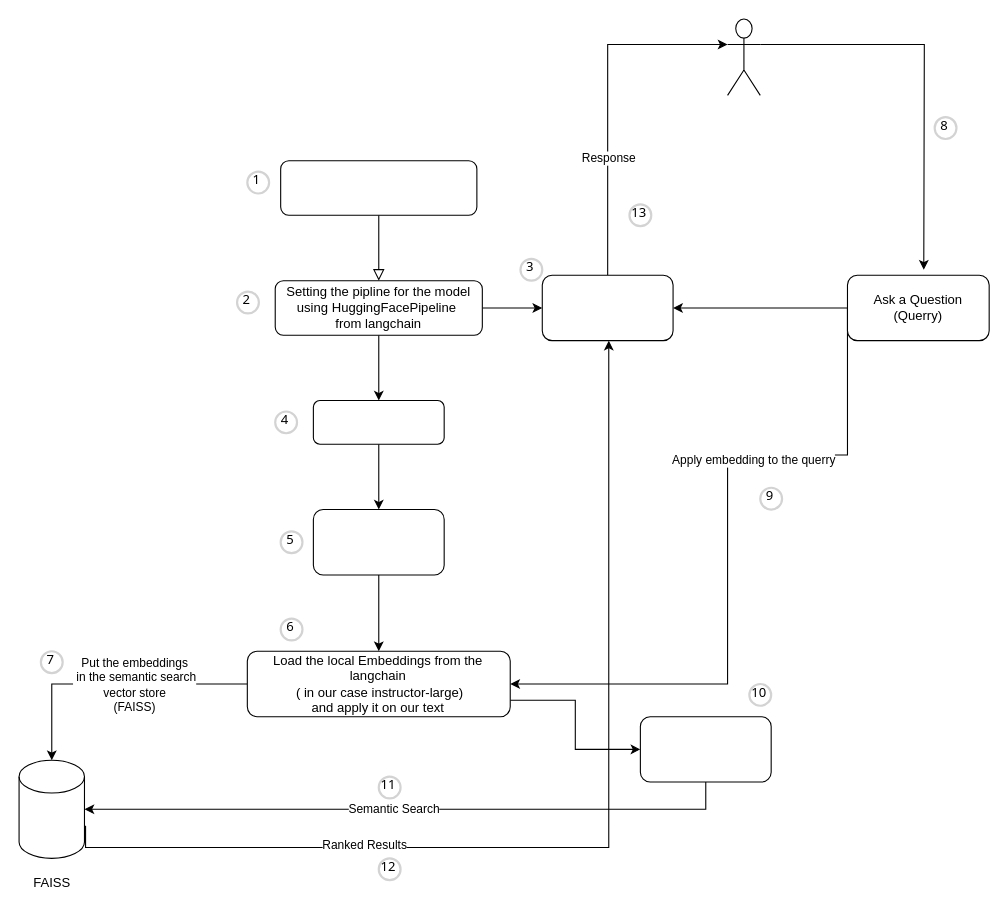
This 1008x919 diagram has some shape labels left out. The shapes that lost their labels are listed below. From the top down, each one's centre as x and y in pixels, then its label:
At (743,56): "User".
At (378,187): "Load the model and the tokenizer ( in our case flant-t5)".
At (607,307): "Local LLM".
At (378,421): "Load the pdf documents".
At (378,541): "Split the pdf text into chunks".
At (705,749): "Querry Embeddings".
